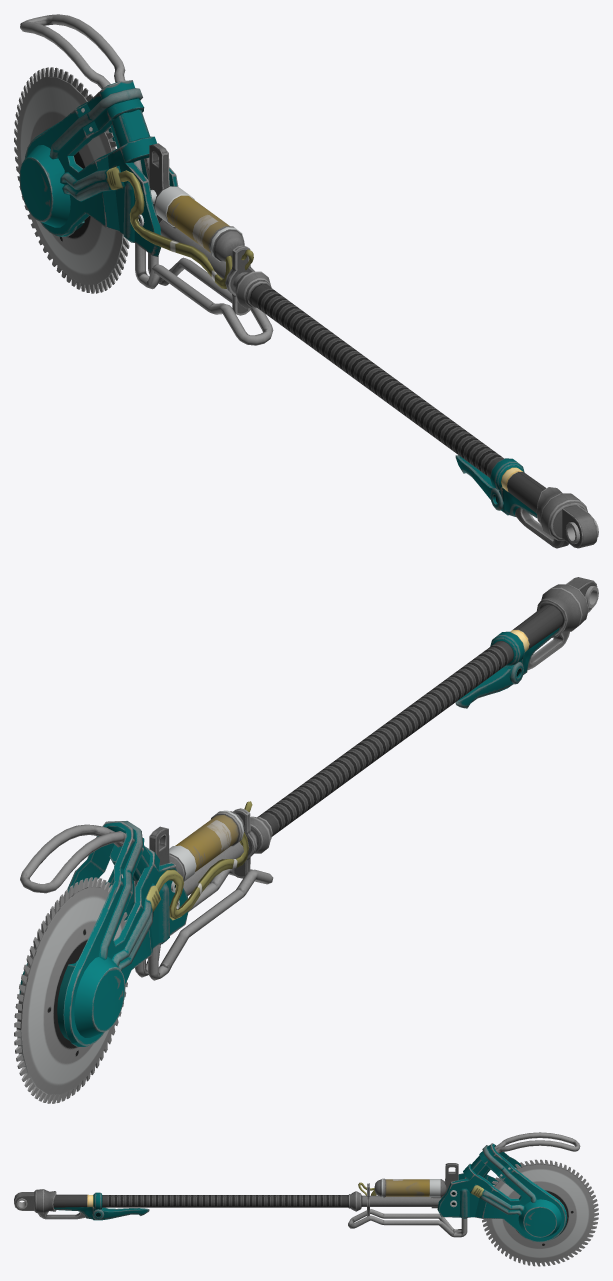
Rendered from GlaiveCommander.fbx.
3 views of the same model, one above another, from view 1: azimuth 30°, elevation 25°; view 2: azimuth 150°, elevation 25°; view 3: azimuth 270°, elevation 25° (orthographic). The views are drawn at different scales.
Parts seen in each view (by area): view 1: glaiveCommander_LOD0; view 2: glaiveCommander_LOD0; view 3: glaiveCommander_LOD0.
Part boxes in pixels (left/top/right/bottom): glaiveCommander_LOD0: left=14, top=14, right=598, bottom=548; glaiveCommander_LOD0: left=14, top=577, right=598, bottom=1103; glaiveCommander_LOD0: left=14, top=1132, right=598, bottom=1266.
Size of what is drawn, in the model's own units: 0.1647 by 0.5445 by 2.23.
